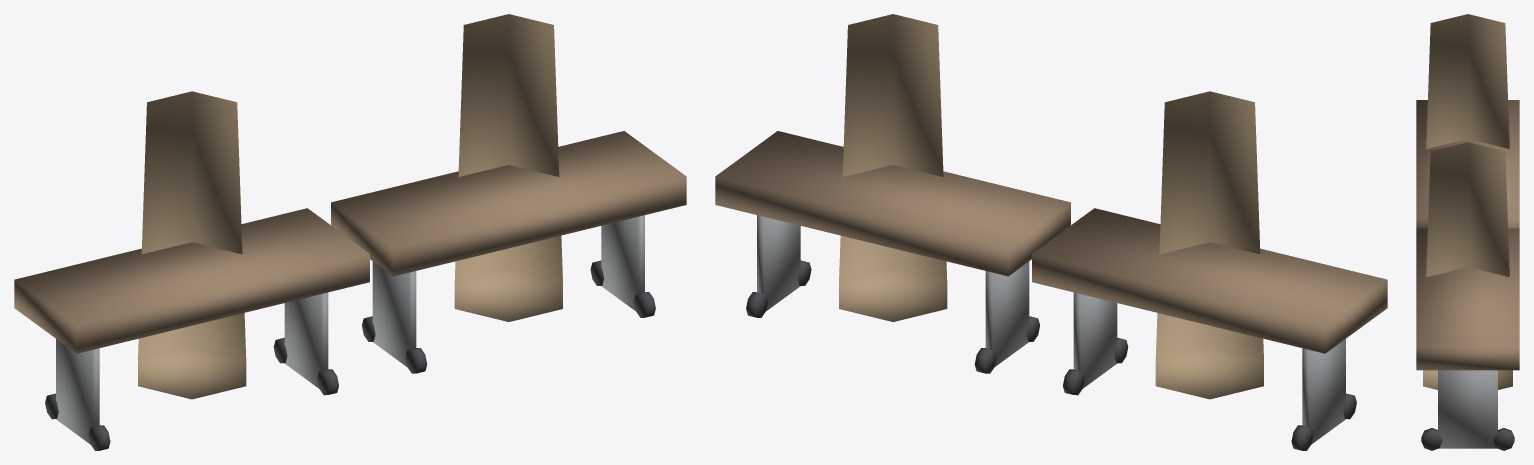
File: casket_bier__cluster.glb
The picture shows the model from 3 angles, left to right: view 1: azimuth 30°, elevation 25°; view 2: azimuth 150°, elevation 25°; view 3: azimuth 270°, elevation 25°; orthographic projection. The views are drawn at different scales.
Parts seen in each view (by area): view 1: world; view 2: world; view 3: world.
Part boxes in pixels (<box>): world: <box>14,14,686,450</box>; world: <box>715,14,1387,450</box>; world: <box>1416,14,1519,450</box>.
Bounding box in the file's own units: 4.06 × 1.86 × 0.72.
